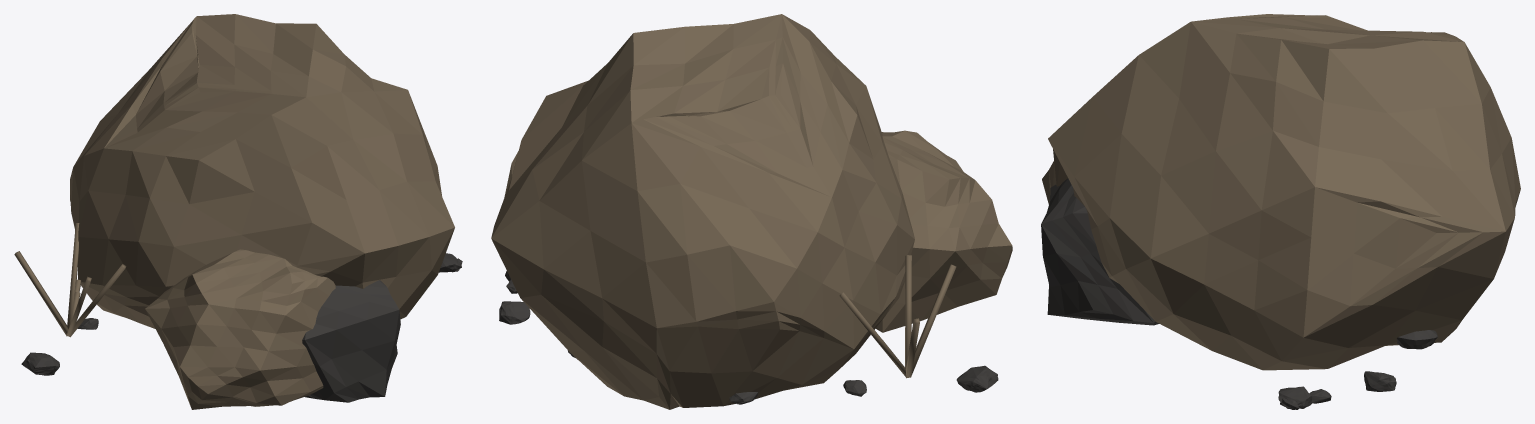
The model's file is cover_rock_11.glb.
The picture shows the model from 3 angles, left to right: view 1: azimuth 30°, elevation 25°; view 2: azimuth 150°, elevation 25°; view 3: azimuth 270°, elevation 25°; orthographic projection. The views are drawn at different scales.
Visible parts, largest first — view 1: rock_0, rock_1, rock_2, grit_6, weed_3, weed_2, weed_4; view 2: rock_0, rock_1, grit_6, weed_5, weed_4, grit_5, weed_2; view 3: rock_0, rock_2, grit_3, grit_5, rock_1, grit_4.
Boxes of the visible parts, left/top/right/bottom form: rock_0: left=70, top=14, right=454, bottom=328; rock_1: left=145, top=249, right=335, bottom=409; rock_2: left=302, top=280, right=400, bottom=402; grit_6: left=21, top=352, right=59, bottom=375; weed_3: left=14, top=251, right=68, bottom=336; weed_2: left=67, top=223, right=79, bottom=326; weed_4: left=70, top=264, right=126, bottom=336; rock_0: left=491, top=14, right=914, bottom=409; rock_1: left=875, top=130, right=1012, bottom=332; grit_6: left=956, top=365, right=998, bottom=392; weed_5: left=911, top=264, right=956, bottom=374; weed_4: left=905, top=255, right=911, bottom=367; grit_5: left=499, top=301, right=530, bottom=324; weed_2: left=839, top=292, right=906, bottom=377; rock_0: left=1048, top=14, right=1520, bottom=370; rock_2: left=1041, top=178, right=1159, bottom=325; grit_3: left=1396, top=330, right=1437, bottom=349; grit_5: left=1364, top=371, right=1396, bottom=391; rock_1: left=1042, top=149, right=1067, bottom=204; grit_4: left=1278, top=386, right=1312, bottom=409.
Size of the model in its own units: 1.82 by 1.1 by 1.55.
